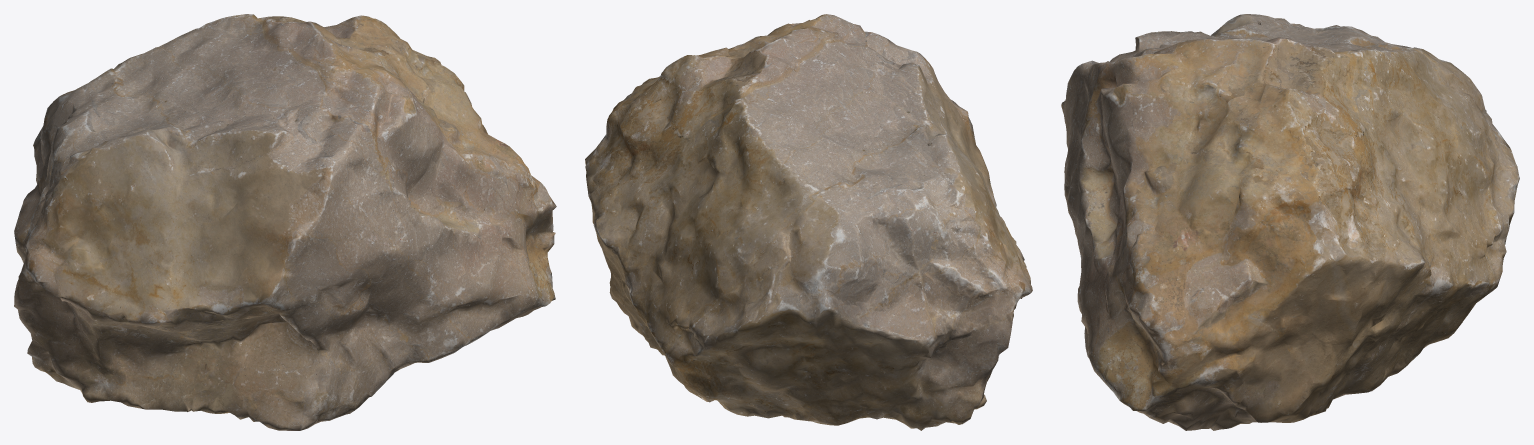
Rendered from roca.fbx.
The picture shows the model from 3 angles, left to right: view 1: azimuth 30°, elevation 25°; view 2: azimuth 150°, elevation 25°; view 3: azimuth 270°, elevation 25°; orthographic projection. The views are drawn at different scales.
Parts seen in each view (by area): view 1: Aset_nature_rock_S_vd3edgg_00_LOD0; view 2: Aset_nature_rock_S_vd3edgg_00_LOD0; view 3: Aset_nature_rock_S_vd3edgg_00_LOD0.
Part boxes in pixels (<box>): Aset_nature_rock_S_vd3edgg_00_LOD0: <box>14,14,556,430</box>; Aset_nature_rock_S_vd3edgg_00_LOD0: <box>585,14,1032,430</box>; Aset_nature_rock_S_vd3edgg_00_LOD0: <box>1061,14,1519,430</box>.
Size of the model in its own units: 49.96 by 33.17 by 41.08.
